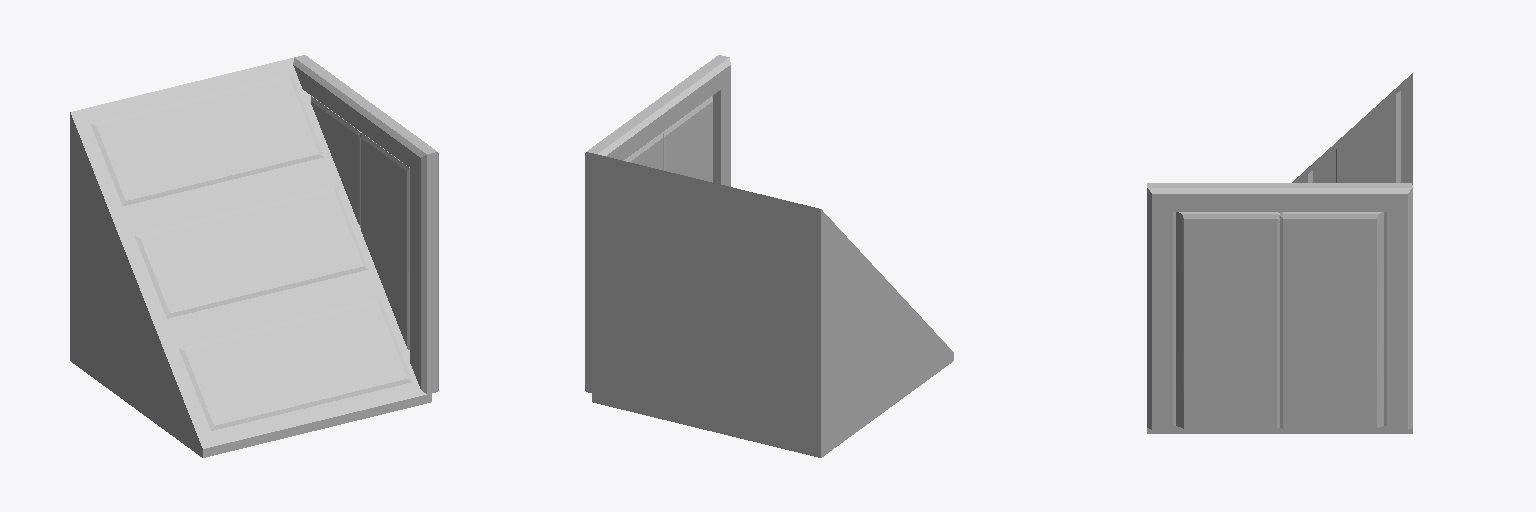
File: Ramp_Wall_Red_R.obj
3 renders of one model, left to right at view 1: azimuth 30°, elevation 25°; view 2: azimuth 150°, elevation 25°; view 3: azimuth 270°, elevation 25°, orthographic.
Parts seen in each view (by area): view 1: Ramp_Wall_Red_R; view 2: Ramp_Wall_Red_R; view 3: Ramp_Wall_Red_R.
Part boxes in pixels (x1,y1,x2,y2): Ramp_Wall_Red_R: (70, 55, 438, 457); Ramp_Wall_Red_R: (585, 55, 953, 457); Ramp_Wall_Red_R: (1147, 73, 1412, 433).
Size of the model in its own units: 4.16 by 4.15 by 4.